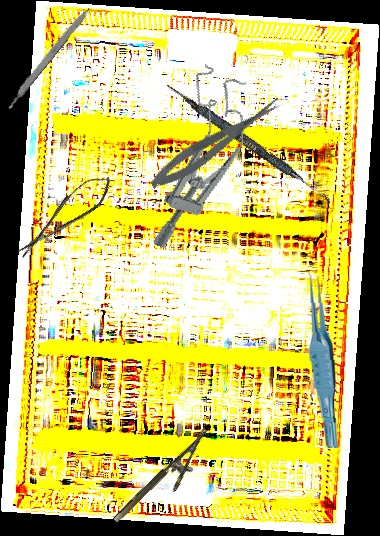Micro Scissor: (144, 92, 289, 196), (8, 168, 120, 264)
Needle Holder: (111, 427, 223, 536)
Scalpel Handle: (4, 4, 92, 111)
Spatula Surgical: (161, 81, 336, 205)
Speculum: (139, 62, 264, 262)
Tissue Forceps: (306, 272, 340, 449)
